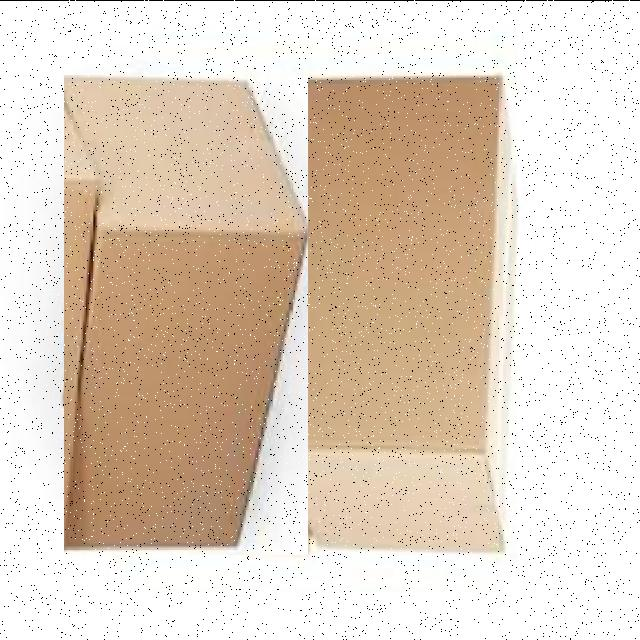normal: (272, 74, 516, 554), (64, 74, 308, 554)
